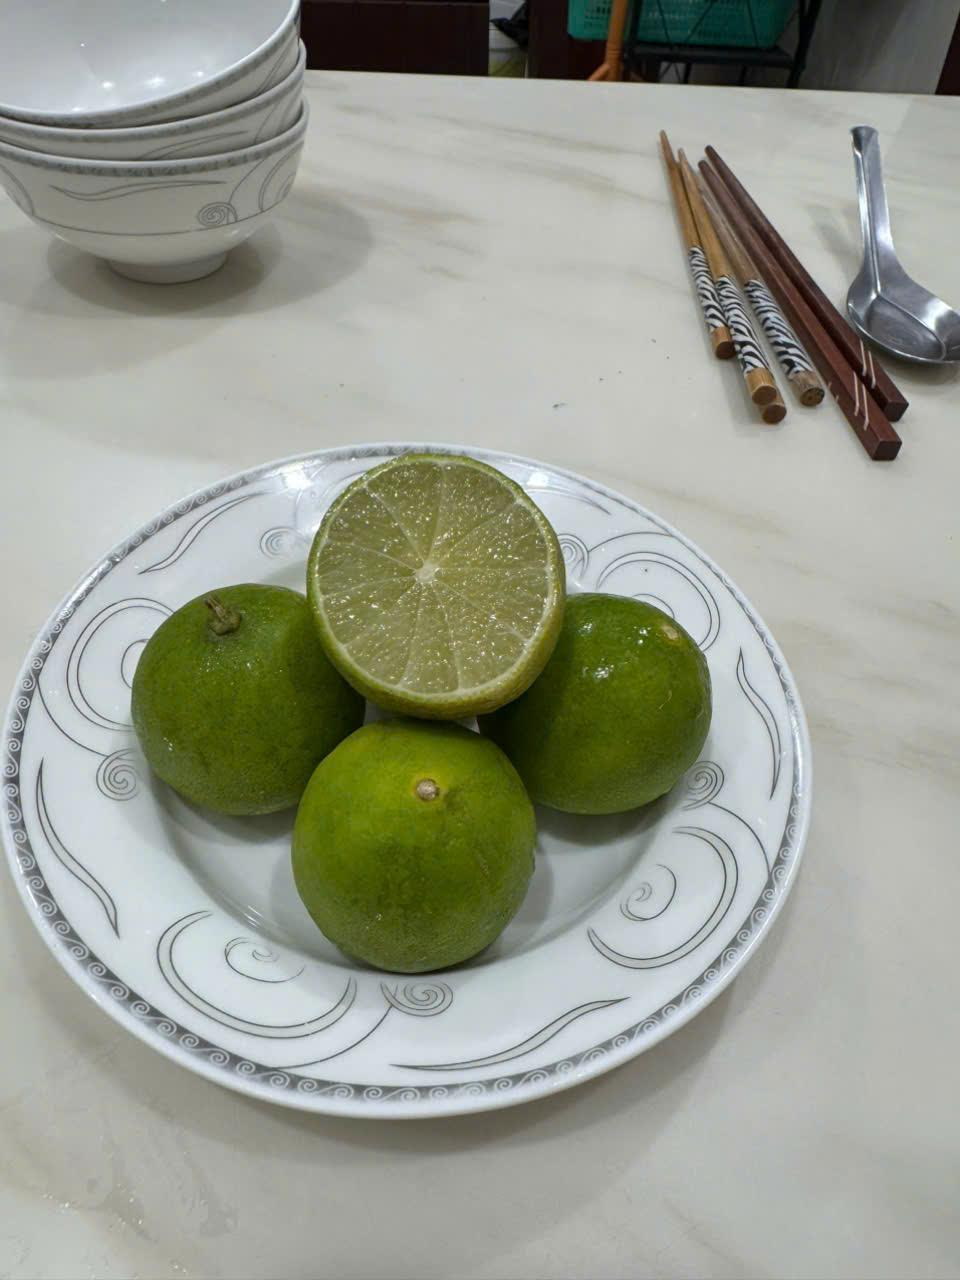lime: (286, 714, 550, 982), (302, 444, 556, 721), (120, 572, 337, 823), (576, 580, 728, 836)
